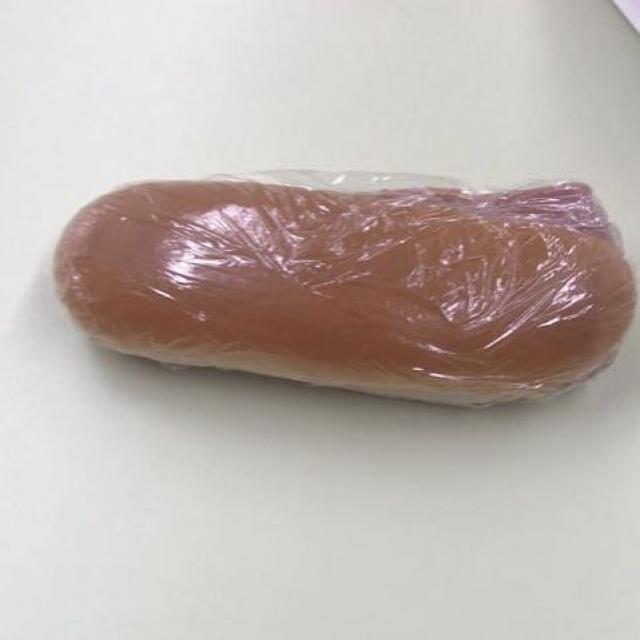sandwich: (54, 170, 626, 402), (34, 162, 626, 386)
